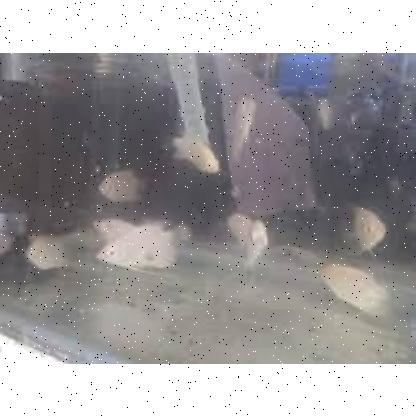gurame: (97, 218, 180, 268), (323, 258, 394, 312)
